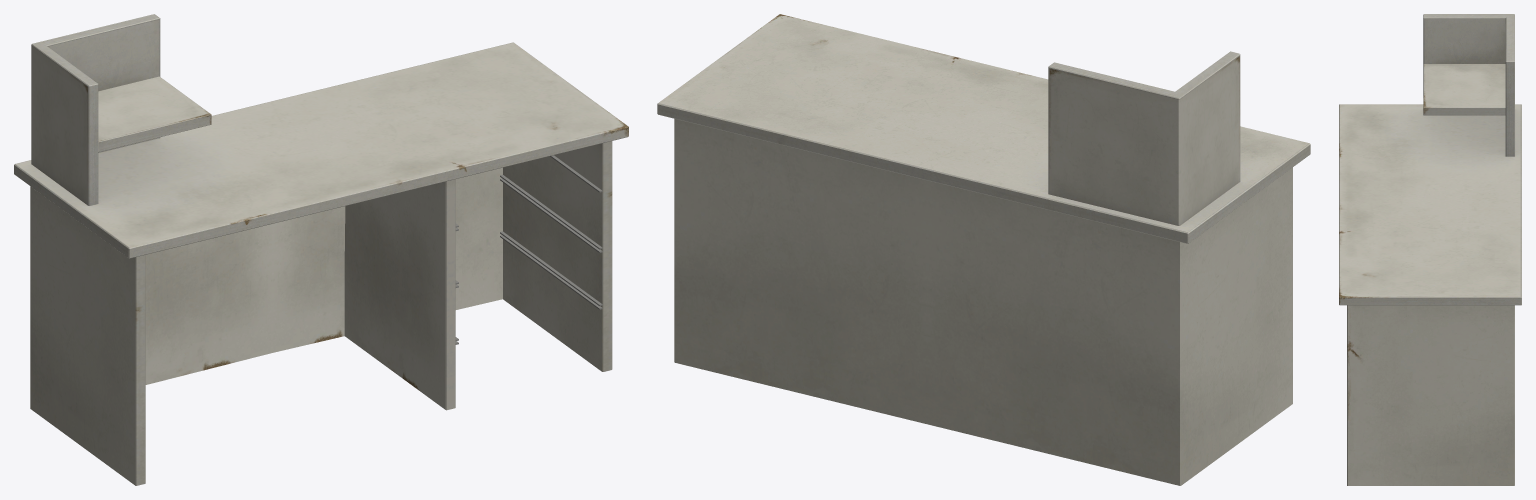
File: desk_work.dae
3 views of the same model, side by side, from view 1: azimuth 30°, elevation 25°; view 2: azimuth 150°, elevation 25°; view 3: azimuth 270°, elevation 25° (orthographic). The views are drawn at different scales.
Visible parts, largest first — view 1: polySurface3; view 2: polySurface3; view 3: polySurface3.
Boxes of the visible parts, box(x1,y1,x2,y2) form: polySurface3: box(14, 14, 628, 485); polySurface3: box(657, 14, 1310, 485); polySurface3: box(1339, 14, 1521, 485).
Bounding box in the file's own units: 150 × 104 × 60.
